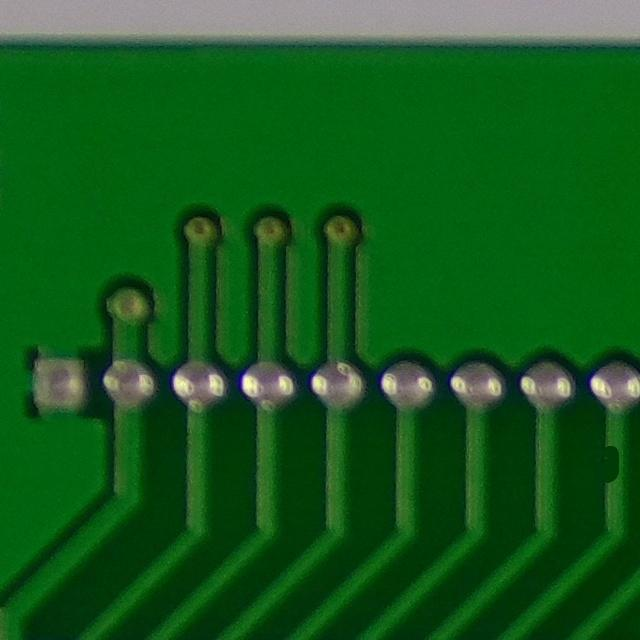mouse_bite: (585, 435, 636, 492)
